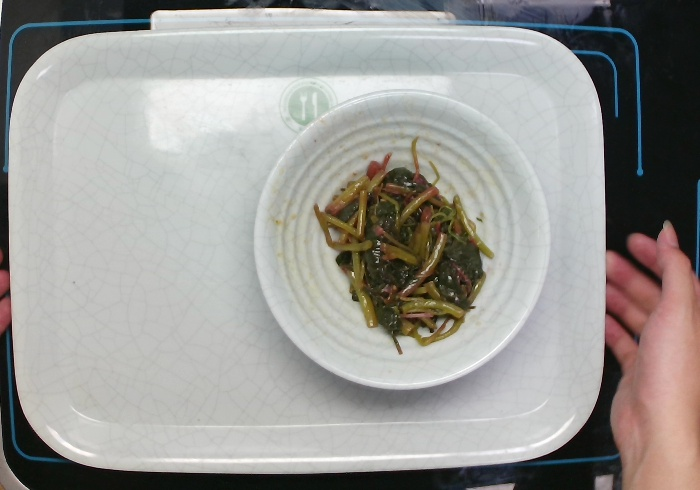JYsf-Xiao_Tang_Wan: (251, 87, 553, 393)
